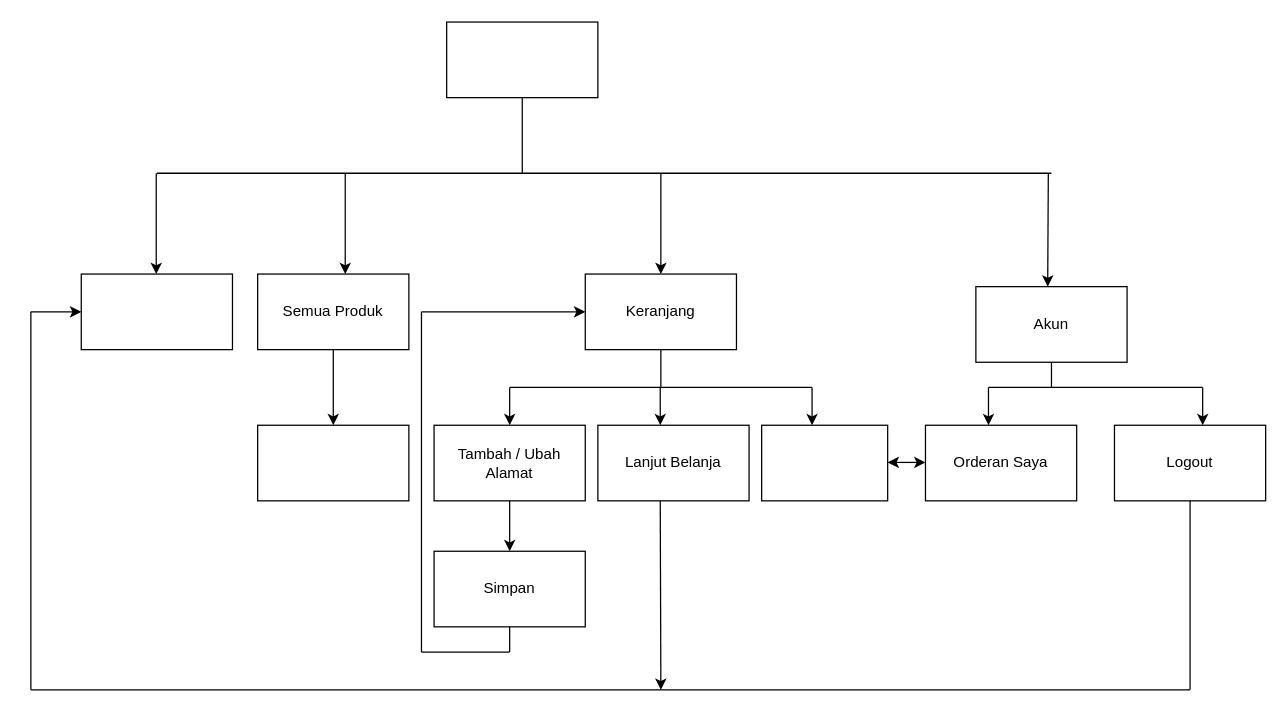
The diagram is 1288 pixels wide and 722 high, and some of its shapes have lost their labels. The centre of each missing label's shape, as x and y in pixels:
Bayar: point 824,462
Beranda: point 156,311
Detail Produk: point 332,462
INDEX: point 521,59
